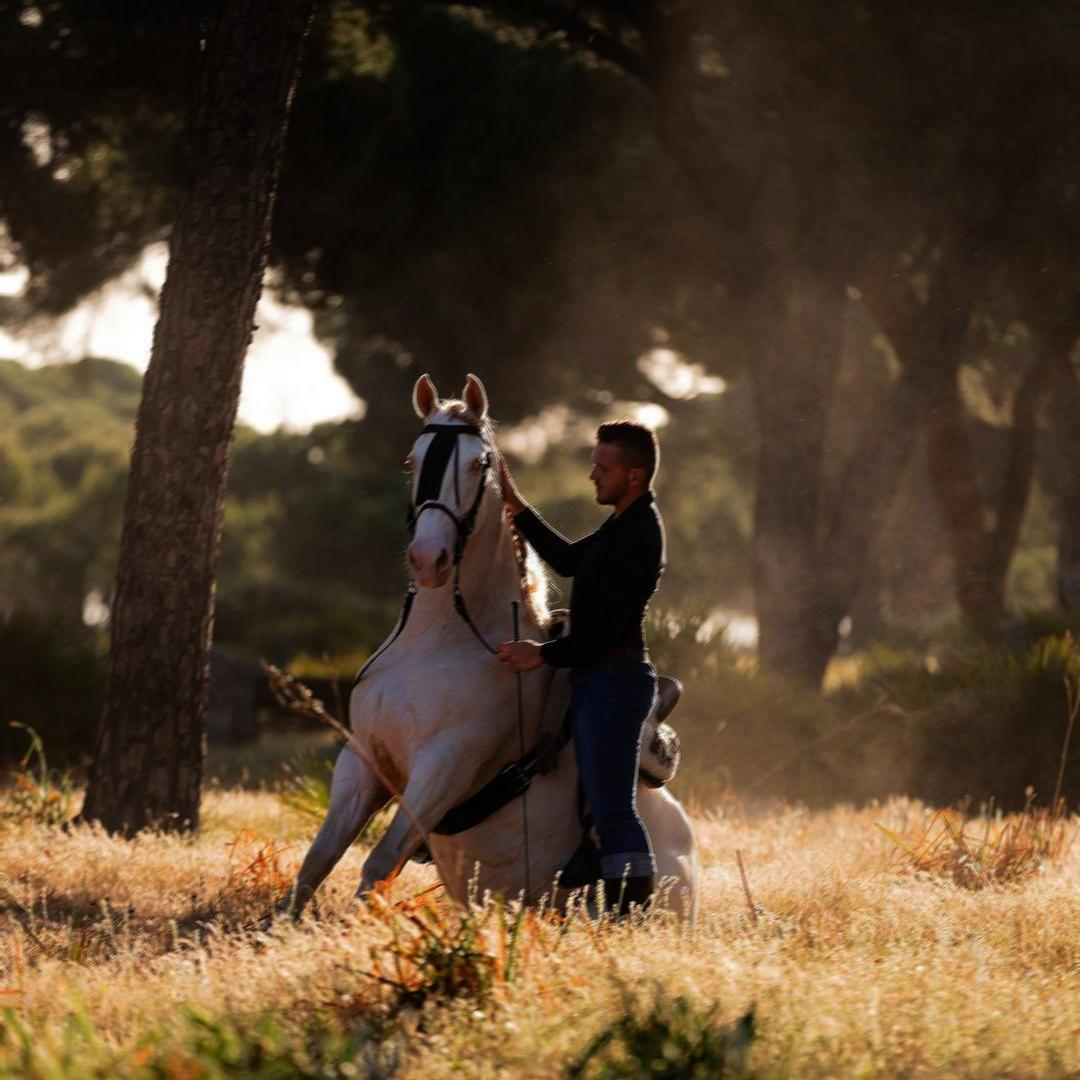horse: (272, 370, 698, 935)
